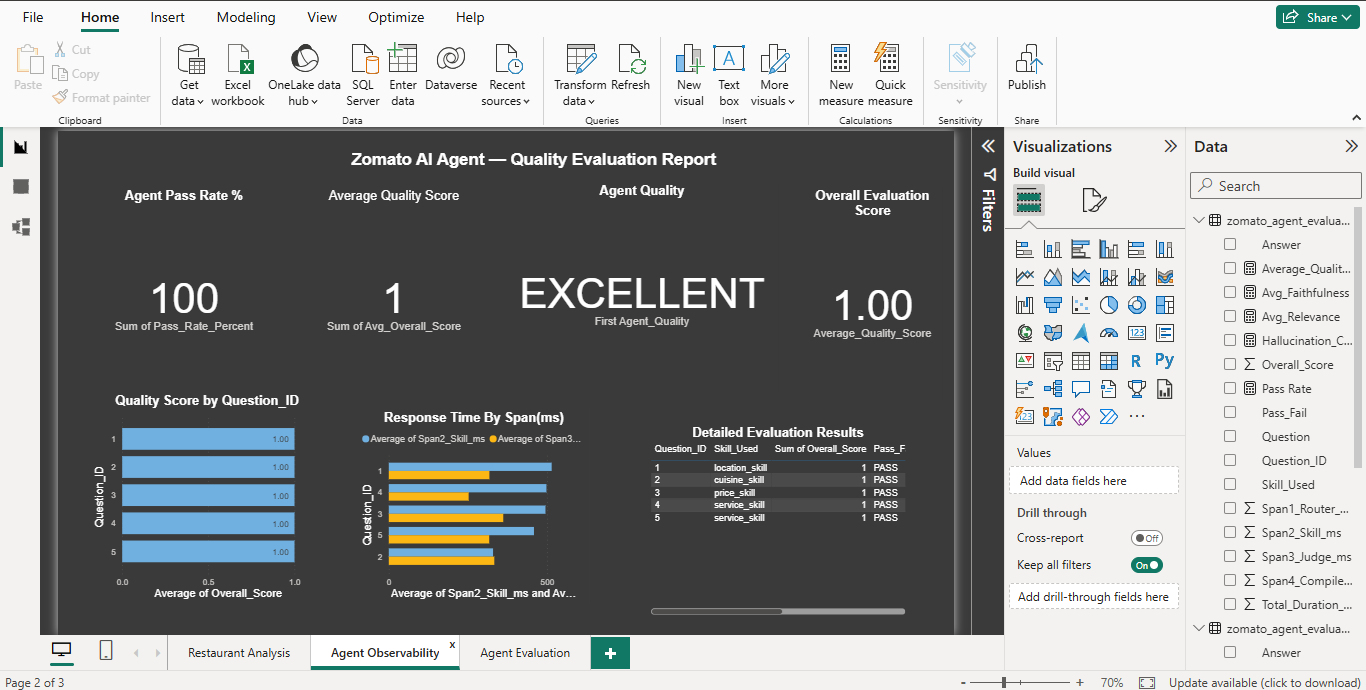

The page's visual inventory and layout, read from the dashboard file:
{"tool":"powerbi","page":{"name":"Agent Observability","canvas":[1280,720],"ordinal":1},"visuals":[{"type":"textbox","box":[224.3,21.4,910,60],"z":0},{"type":"card","title":"    Agent Pass Rate %","fields":{"Values":["Sum(zomato_agent_summary.Pass_Rate_Percent)"]},"box":[30,81.4,300,300],"z":1},{"type":"card","title":"Average Quality Score","fields":{"Values":["Sum(zomato_agent_summary.Avg_Overall_Score)"]},"box":[330,81.4,300,300],"z":2},{"type":"card","title":"Agent Quality","fields":{"Values":["Min(zomato_agent_summary.Agent_Quality)"]},"box":[640,74.3,388.6,300],"z":3},{"type":"clusteredBarChart","title":"Quality Score by Question_ID","fields":{"Category":["zomato_agent_evaluation.Question_ID"],"Y":["Avg(zomato_agent_evaluation.Overall_Score)"]},"box":[45.7,374.3,334.3,300],"z":4},{"type":"tableEx","title":"Detailed Evaluation Results","fields":{"Values":["zomato_agent_evaluation.Question_ID","zomato_agent_evaluation.Skill_Used","Sum(zomato_agent_evaluation.Overall_Score)","zomato_agent_evaluation.Pass_Fail","Sum(zomato_agent_evaluation.Span2_Skill_ms)","Sum(zomato_agent_evaluation.Span3_Judge_ms)"]},"box":[841.4,420,374.3,275.7],"z":6},{"type":"clusteredBarChart","title":"Response Time By Span(ms)","fields":{"Category":["zomato_agent_evaluation.Question_ID"],"Y":["Avg(zomato_agent_evaluation.Span2_Skill_ms)","Avg(zomato_agent_evaluation.Span3_Judge_ms)"]},"box":[428.6,398.6,331.4,275.7],"z":7},{"type":"card","title":"Overall Evaluation Score","fields":{"Values":["zomato_agent_evaluation.Average_Quality_Score"]},"box":[1064.3,81.4,198.6,300],"z":8}]}

Visuals, with their boxes on the page's 1280x720 design canvas (x1, y1, x2, y2). These are canvas units, not pixel positions in the 1366x690 screenshot, which may show the page scaled, cropped or inside an application window:
textbox: x1=224 y1=21 x2=1134 y2=81
"    Agent Pass Rate %" card: x1=30 y1=81 x2=330 y2=381
"Average Quality Score" card: x1=330 y1=81 x2=630 y2=381
"Agent Quality" card: x1=640 y1=74 x2=1029 y2=374
"Quality Score by Question_ID" clusteredBarChart: x1=46 y1=374 x2=380 y2=674
"Detailed Evaluation Results" tableEx: x1=841 y1=420 x2=1216 y2=696
"Response Time By Span(ms)" clusteredBarChart: x1=429 y1=399 x2=760 y2=674
"Overall Evaluation Score" card: x1=1064 y1=81 x2=1263 y2=381
